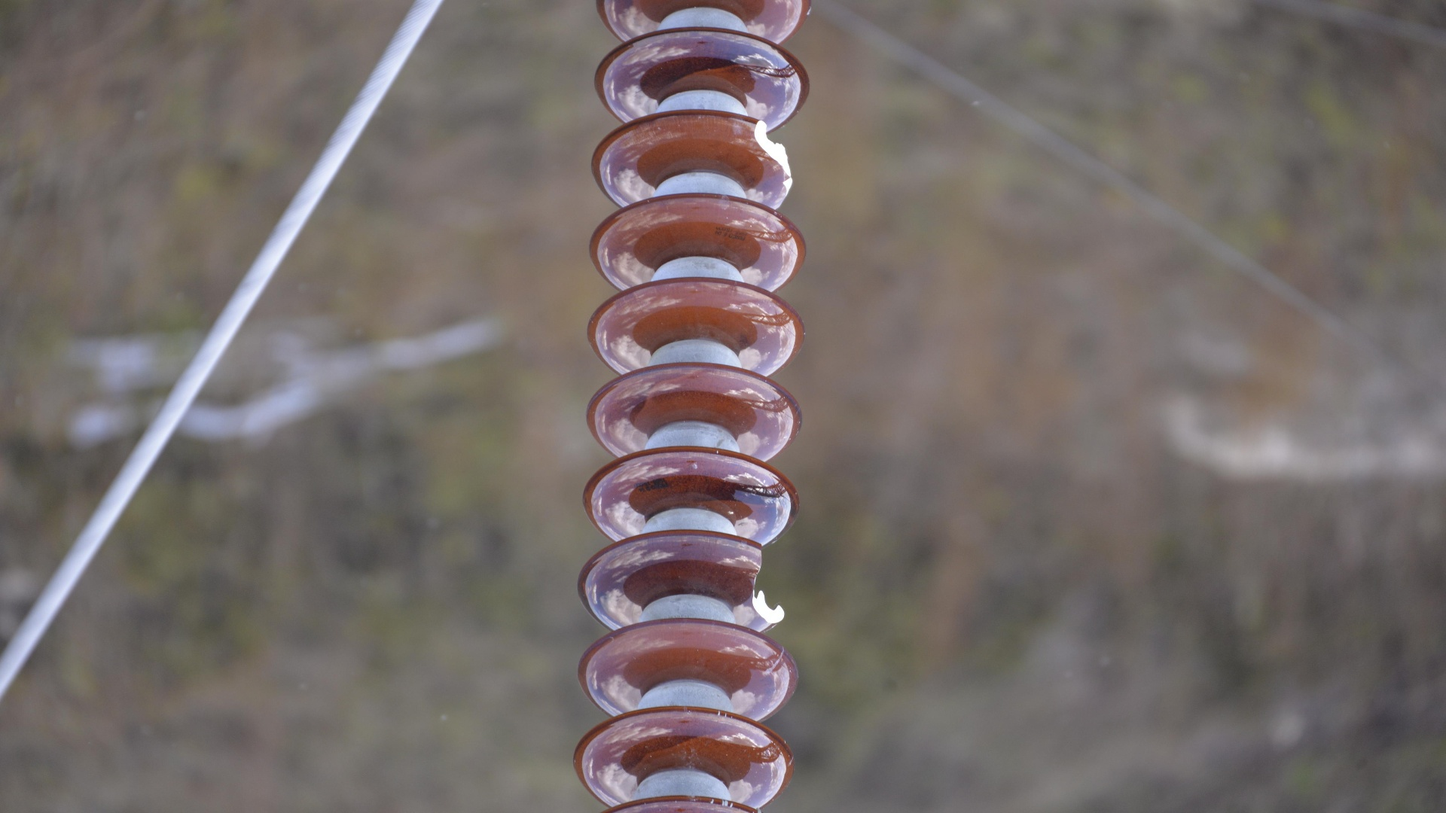insulator: (566, 1, 817, 813)
insulator_breakage: (746, 114, 799, 212), (743, 537, 789, 627)
